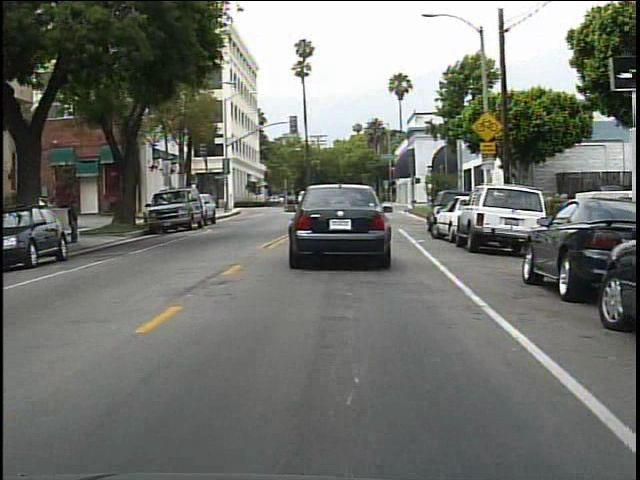person: (68, 195, 86, 245)
